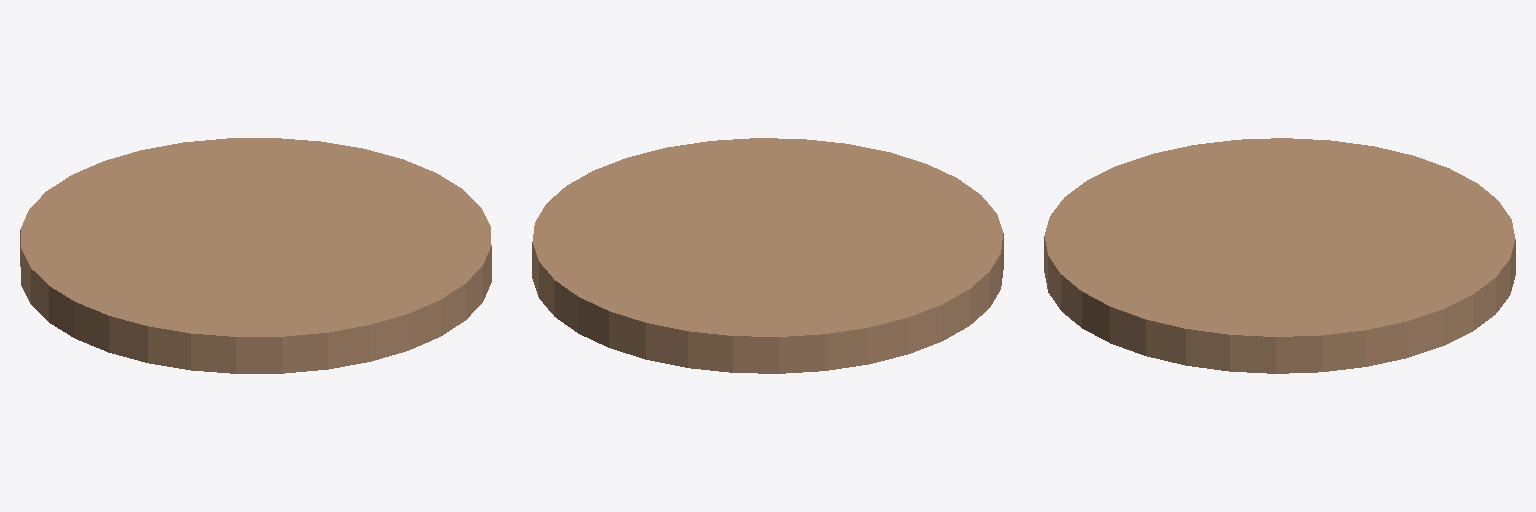
The robot description file, URDF, robot "Interference":
<?xml version="1.0"?>
<robot name="Interference">
  <link name="baseLink">
    <inertial>
      <origin xyz="0.0 0.0 0.0" rpy="0.0 0.0 0.0"/>
      <inertia ixx="0.0" ixy="0.0" ixz="0.0" iyy="0.0" iyz="0.0" izz="0.0"/>
      <mass value="0"/>
    </inertial>
    <visual>
      <origin xyz="0.0 0.0 0.0" rpy="0.0 0.0 1.3558171959827074"/>
      <geometry>
        <cylinder radius="0.05800154037068719" length="0.01"/>
      </geometry>
      <material name="color">
        <color rgba="0.7436904122634592 0.6022778508093952 0.48502057145011235 1.0"/>
      </material>
    </visual>
  </link>
</robot>

--- What the picture shows (computed from the rendered views, not written in the file) ---
The picture shows the robot from 3 angles, left to right: view 1: azimuth 30°, elevation 25°; view 2: azimuth 150°, elevation 25°; view 3: azimuth 270°, elevation 25°; orthographic projection.
Model Interference with 1 links and 0 joints (none), rooted at baseLink, posed all joints at 0.
Links seen in each view (by area): view 1: baseLink; view 2: baseLink; view 3: baseLink.
Link boxes in pixels (x1,y1,x2,y2): baseLink: (20,138,491,373); baseLink: (532,138,1003,373); baseLink: (1044,138,1515,373).
Size in the robot's own frame: 0.116 by 0.116 by 0.01 metres.
Geometry: primitives only (box / cylinder / sphere), no mesh files.